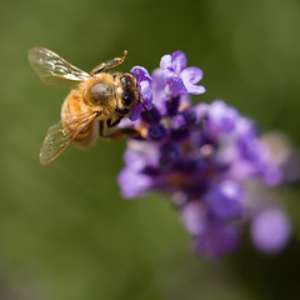bee: (24, 48, 156, 170)
